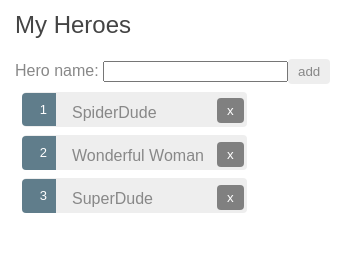
Test: HeroesComponent (deep) › should add a new hero to the hero list when the add button is clicked
This screenshot has width=347, height=274.
In the field labelled "Hero name:": (196, 71) [103,61,288,82], type "Mr. Freeze"
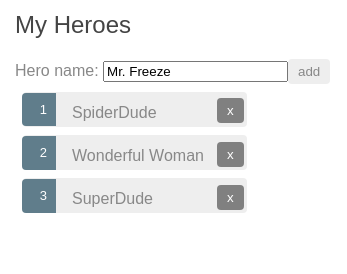
Click the button "add": (309, 71) [288,59,330,84]
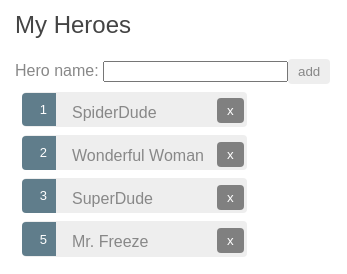
Expected: the list shows "Mr. Freeze", [68,234,148,251]
